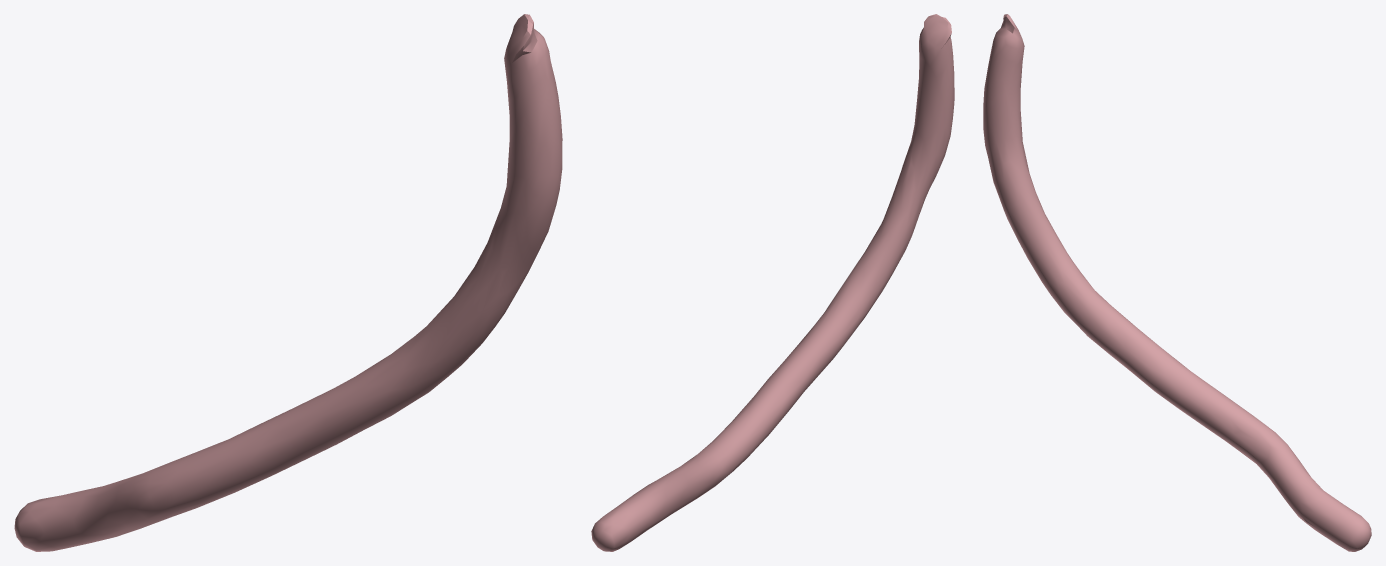
Rendered from fma55449_mm1207m.glb.
3 views of the same model, side by side, from view 1: azimuth 90°, elevation 25°; view 2: azimuth 150°, elevation 25°; view 3: azimuth 270°, elevation 25° (orthographic). The views are drawn at different scales.
Parts seen in each view (by area): view 1: FMA55449_MM1207M; view 2: FMA55449_MM1207M; view 3: FMA55449_MM1207M.
Part boxes in pixels (x1=…): FMA55449_MM1207M: x1=14, y1=14, x2=562, y2=551; FMA55449_MM1207M: x1=591, y1=14, x2=954, y2=551; FMA55449_MM1207M: x1=983, y1=14, x2=1371, y2=551.
Size of the model in its own units: 0.00666 by 0.0151 by 0.0117.
